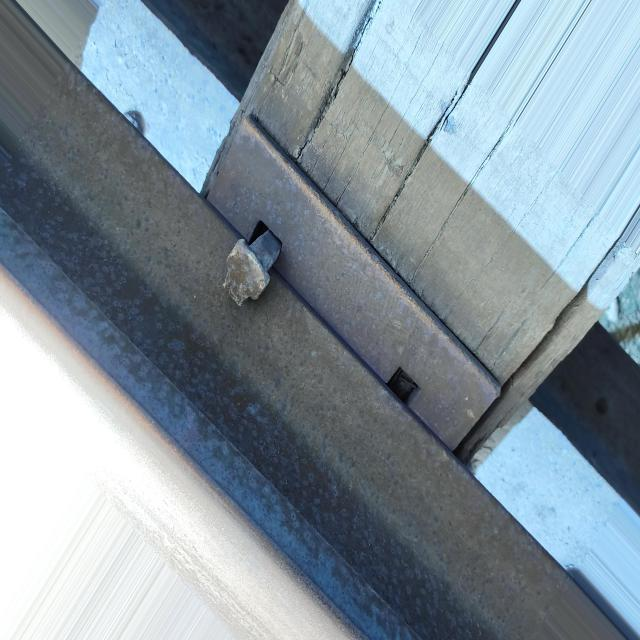Good Fasteners: (224, 229, 281, 305)
Missing Dogscrew: (387, 368, 418, 404)
